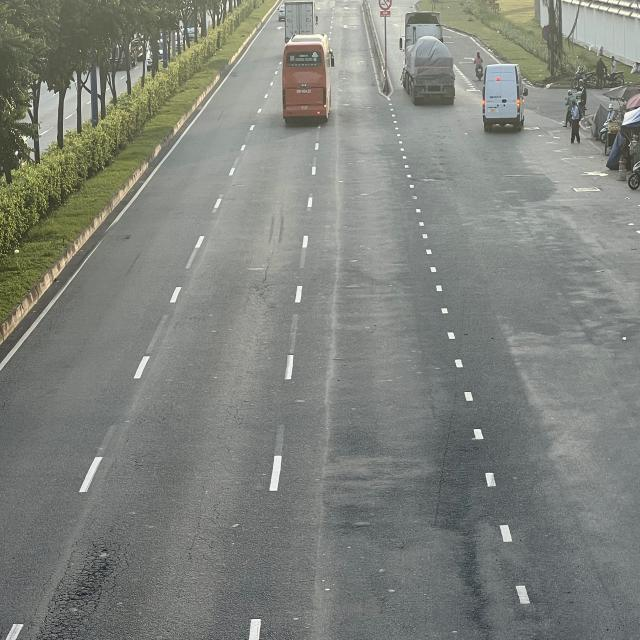coach: (281, 36, 333, 122)
container: (398, 10, 457, 105)
truck: (483, 63, 525, 132), (282, 1, 316, 40)
